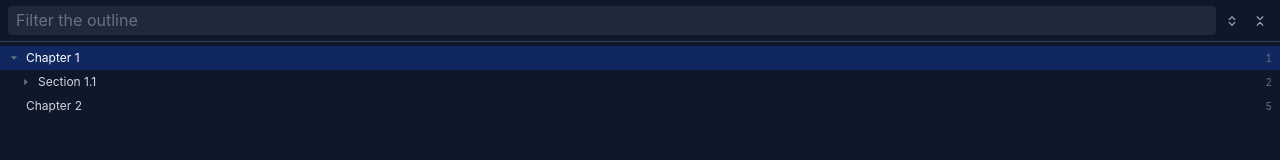
OutlineView › expands everything on request
Click the button named "expand all" at (1232, 21), box [1220,9,1244,33]
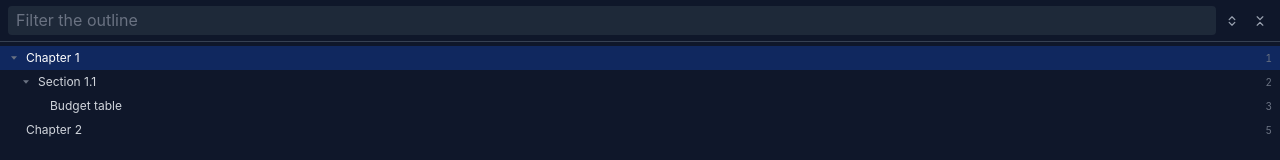
Now the button "Budget table" is shown, box [50,94,1260,118]
